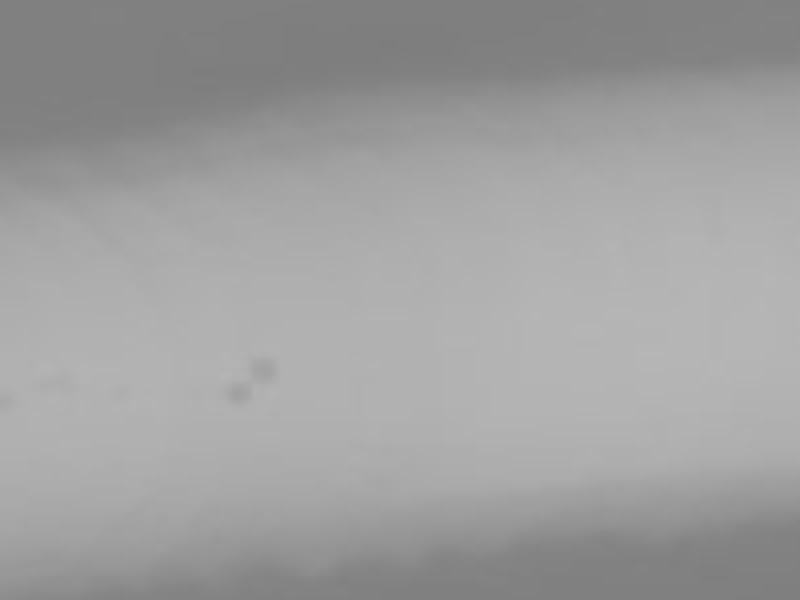defect: (32, 368, 84, 400), (228, 380, 256, 411), (252, 355, 277, 385), (1, 390, 25, 420), (112, 381, 134, 403)
